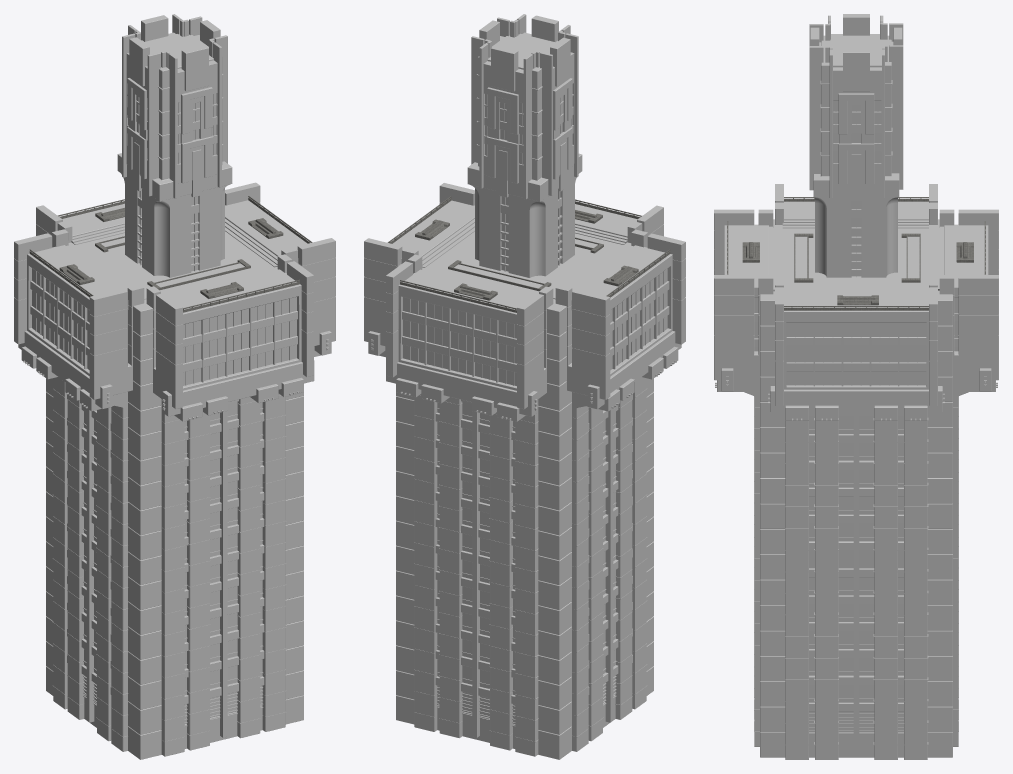
File: Kitbash3D_Brutalist_Building_Large05.fbx
3 renders of one model, left to right at view 1: azimuth 30°, elevation 25°; view 2: azimuth 150°, elevation 25°; view 3: azimuth 270°, elevation 25°, orthographic.
Parts seen in each view (by area): view 1: L_Bldg_B_Facade_Main_Bldg, L_Bldg_B_Main_Bldg, L_Bldg_B_Tower, L_Bldg_B_WindowsGlass, L_Bldg_B_Mullions1, L_Bldg_B_Ext_Props, L_Bldg_B_Water; view 2: L_Bldg_B_Facade_Main_Bldg, L_Bldg_B_Main_Bldg, L_Bldg_B_Tower, L_Bldg_B_WindowsGlass, L_Bldg_B_Mullions1, L_Bldg_B_Ext_Props, L_Bldg_B_Water; view 3: L_Bldg_B_Facade_Main_Bldg, L_Bldg_B_Main_Bldg, L_Bldg_B_Tower, L_Bldg_B_WindowsGlass, L_Bldg_B_Ext_Props, L_Bldg_B_Mullions1, L_Bldg_B_Water.
Boxes of the visible parts, bbox=[...] form: L_Bldg_B_Facade_Main_Bldg: bbox=[14, 182, 335, 756]; L_Bldg_B_Main_Bldg: bbox=[46, 218, 303, 759]; L_Bldg_B_Tower: bbox=[117, 14, 232, 277]; L_Bldg_B_WindowsGlass: bbox=[32, 93, 296, 694]; L_Bldg_B_Mullions1: bbox=[35, 271, 290, 726]; L_Bldg_B_Ext_Props: bbox=[29, 196, 312, 312]; L_Bldg_B_Water: bbox=[100, 237, 244, 287]; L_Bldg_B_Facade_Main_Bldg: bbox=[364, 183, 685, 756]; L_Bldg_B_Main_Bldg: bbox=[396, 219, 653, 759]; L_Bldg_B_Tower: bbox=[467, 14, 582, 277]; L_Bldg_B_WindowsGlass: bbox=[403, 94, 667, 694]; L_Bldg_B_Mullions1: bbox=[410, 271, 664, 726]; L_Bldg_B_Ext_Props: bbox=[387, 196, 670, 312]; L_Bldg_B_Water: bbox=[454, 239, 597, 288]; L_Bldg_B_Facade_Main_Bldg: bbox=[714, 184, 998, 759]; L_Bldg_B_Main_Bldg: bbox=[760, 219, 952, 757]; L_Bldg_B_Tower: bbox=[809, 14, 903, 277]; L_Bldg_B_WindowsGlass: bbox=[754, 101, 958, 702]; L_Bldg_B_Ext_Props: bbox=[727, 197, 985, 310]; L_Bldg_B_Mullions1: bbox=[795, 322, 917, 734]; L_Bldg_B_Water: bbox=[795, 236, 919, 278].
Size of the model in its own units: 31.2 by 82.69 by 31.2.
